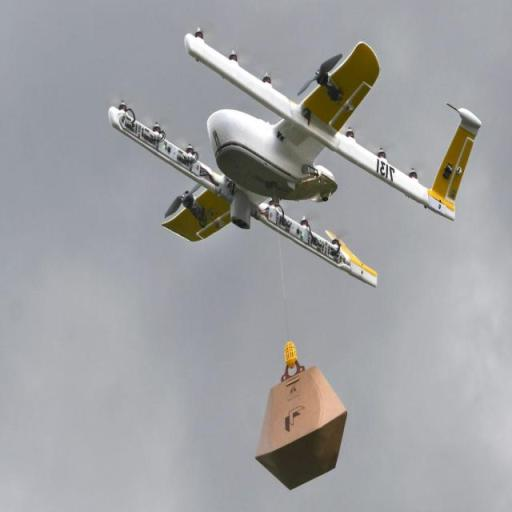uav: (106, 21, 500, 278)
